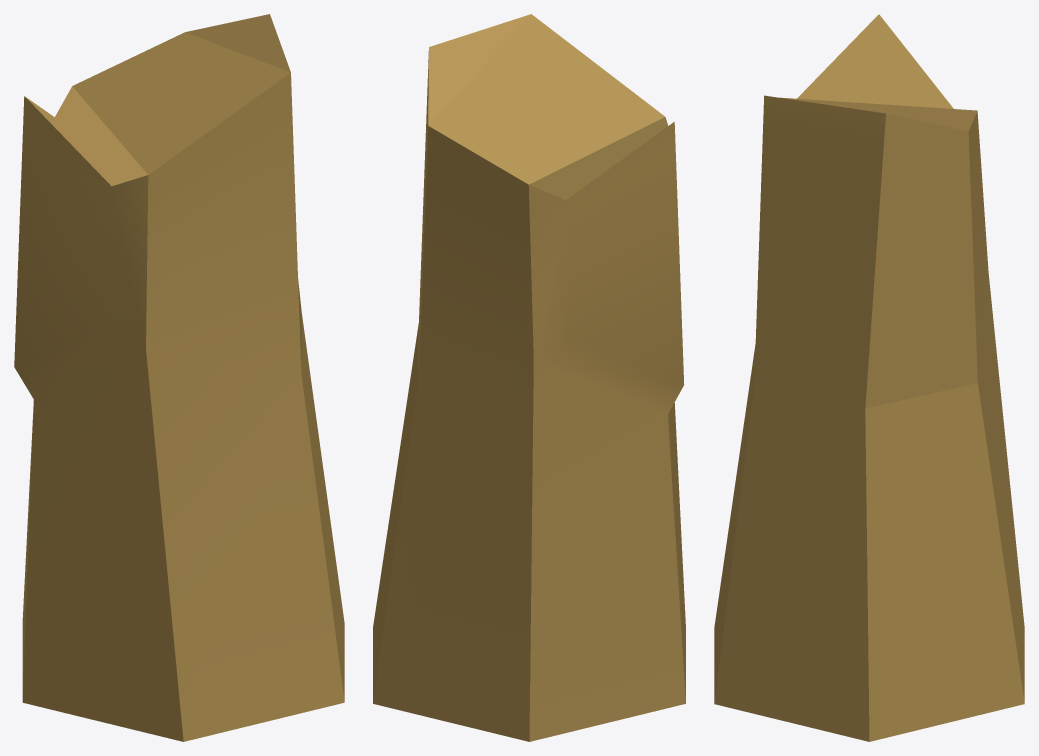
Rendered from teststub.fbx.
3 renders of one model, left to right at view 1: azimuth 30°, elevation 25°; view 2: azimuth 150°, elevation 25°; view 3: azimuth 270°, elevation 25°, orthographic. The views are drawn at different scales.
Visible parts, largest first — view 1: pCylinder1; view 2: pCylinder1; view 3: pCylinder1.
Boxes of the visible parts, <box> form: pCylinder1: <box>14,14,344,741</box>; pCylinder1: <box>373,14,685,741</box>; pCylinder1: <box>714,14,1024,741</box>.
Bounding box in the file's own units: 3.53 × 6.42 × 3.02.
